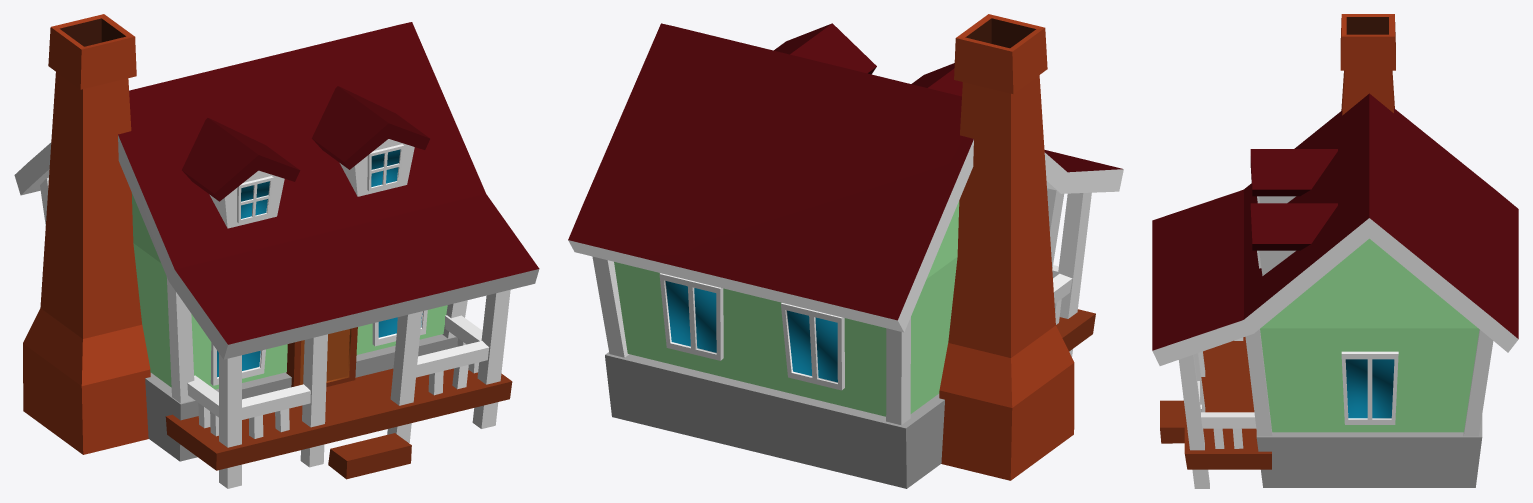
Rendered from Small_House_1 (2).fbx.
The picture shows the model from 3 angles, left to right: view 1: azimuth 30°, elevation 25°; view 2: azimuth 150°, elevation 25°; view 3: azimuth 270°, elevation 25°; orthographic projection. The views are drawn at different scales.
Visible parts, largest first — view 1: Small_House_Roof, Small_House_Chimney, Small_House_Columns, Small_House_Poarch, Small_House_High_Windows, Small House_Walls, Small_House_Base, Small_House_Windows; view 2: Small_House_Roof, Small_House_Chimney, Small_House_Base, Small House_Walls, Small_House_Windows, Small_House_Columns, Small_House_High_Windows, Small_House_Poarch; view 3: Small_House_Roof, Small House_Walls, Small_House_Base, Small_House_High_Windows, Small_House_Poarch, Small_House_Columns, Small_House_Chimney, Small_House_Windows.
Boxes of the visible parts, bbox=[...] form: Small_House_Roof: bbox=[14, 22, 539, 359]; Small_House_Chimney: bbox=[23, 14, 150, 454]; Small_House_Columns: bbox=[40, 177, 510, 488]; Small_House_Poarch: bbox=[165, 327, 512, 479]; Small_House_High_Windows: bbox=[182, 86, 429, 228]; Small House_Walls: bbox=[131, 192, 447, 389]; Small_House_Base: bbox=[145, 334, 457, 461]; Small_House_Windows: bbox=[210, 310, 427, 385]; Small_House_Roof: bbox=[568, 23, 1123, 332]; Small_House_Chimney: bbox=[939, 14, 1074, 480]; Small_House_Base: bbox=[605, 352, 944, 488]; Small House_Walls: bbox=[614, 201, 959, 416]; Small_House_Windows: bbox=[659, 273, 844, 390]; Small_House_Columns: bbox=[592, 188, 1091, 424]; Small_House_High_Windows: bbox=[774, 23, 962, 96]; Small_House_Poarch: bbox=[1056, 309, 1095, 351]; Small_House_Roof: bbox=[1152, 93, 1518, 365]; Small House_Walls: bbox=[1260, 238, 1479, 432]; Small_House_Base: bbox=[1256, 415, 1482, 487]; Small_House_High_Windows: bbox=[1250, 149, 1337, 275]; Small_House_Poarch: bbox=[1160, 337, 1271, 469]; Small_House_Columns: bbox=[1179, 329, 1493, 488]; Small_House_Chimney: bbox=[1340, 14, 1395, 115]; Small_House_Windows: bbox=[1341, 351, 1398, 424].
Bounding box in the file's own units: 287 × 299 × 294.
